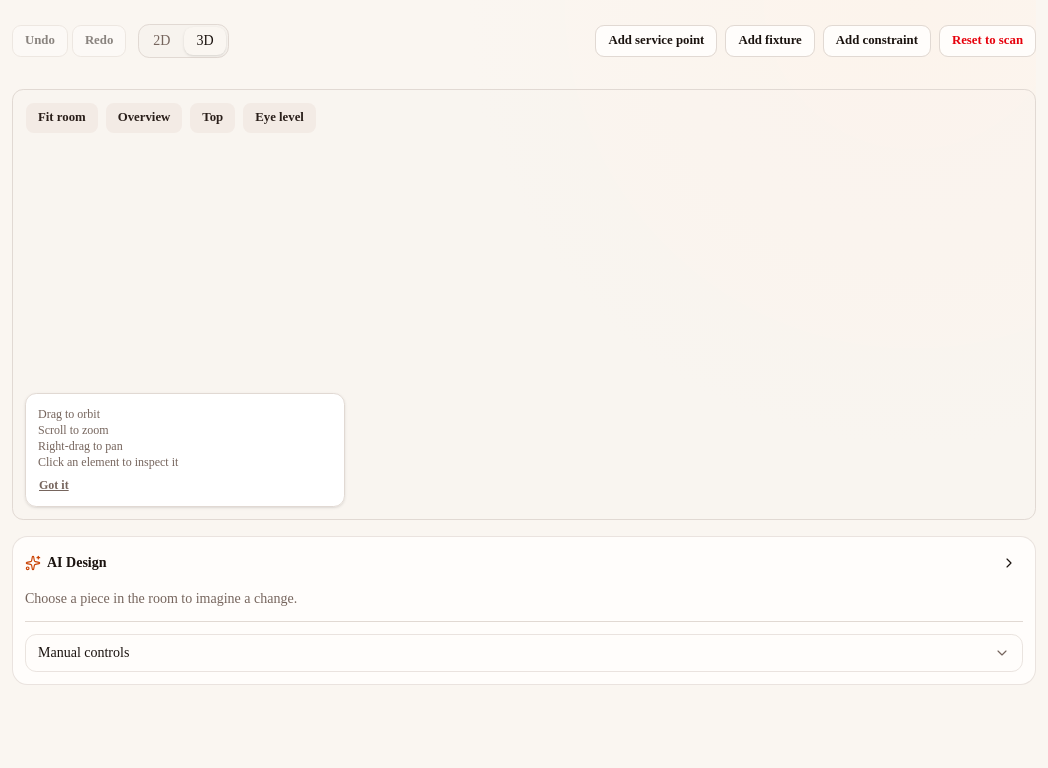
Test: SpatialEditor — submit-and-reconcile for each RP4C1 operation › move_service_point: dragging the service point submits move_service_point with the dragged position
Check: the picture named "3d room view" is shown, box x1=13 y1=90 x2=313 y2=240
Step 1. Click the radio button labelled "2D" → [162, 40], box x1=141 y1=26 x2=182 y2=54
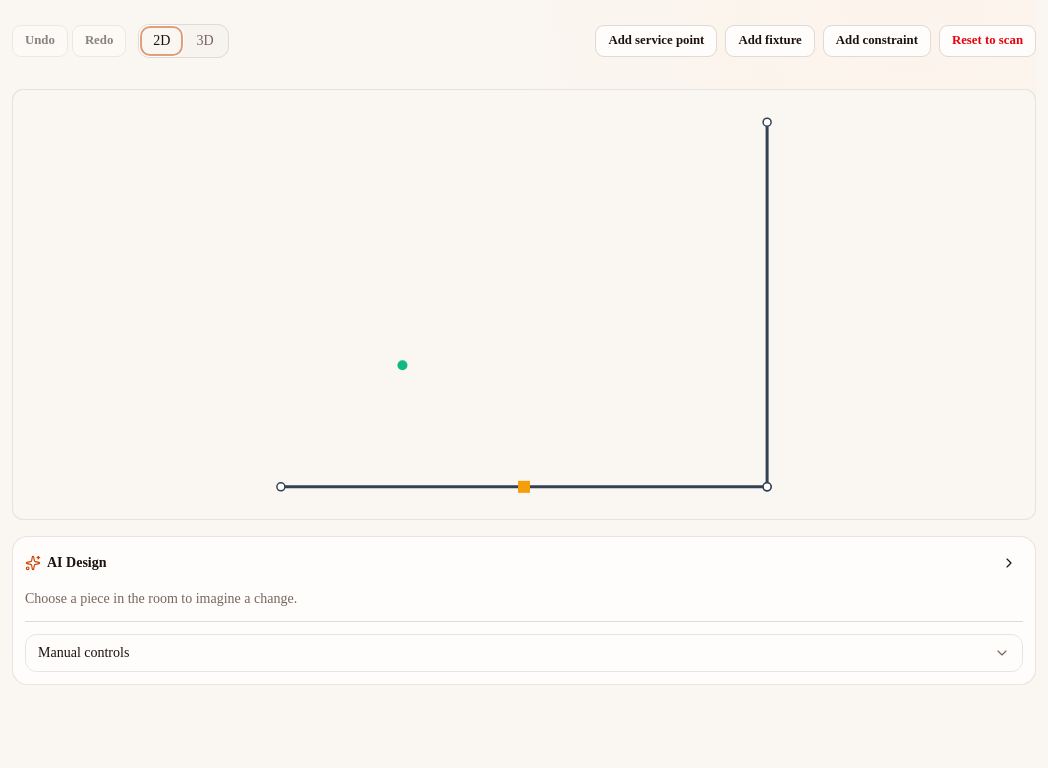
Check: the picture named "floor plan" is shown, box x1=13 y1=90 x2=1035 y2=519
